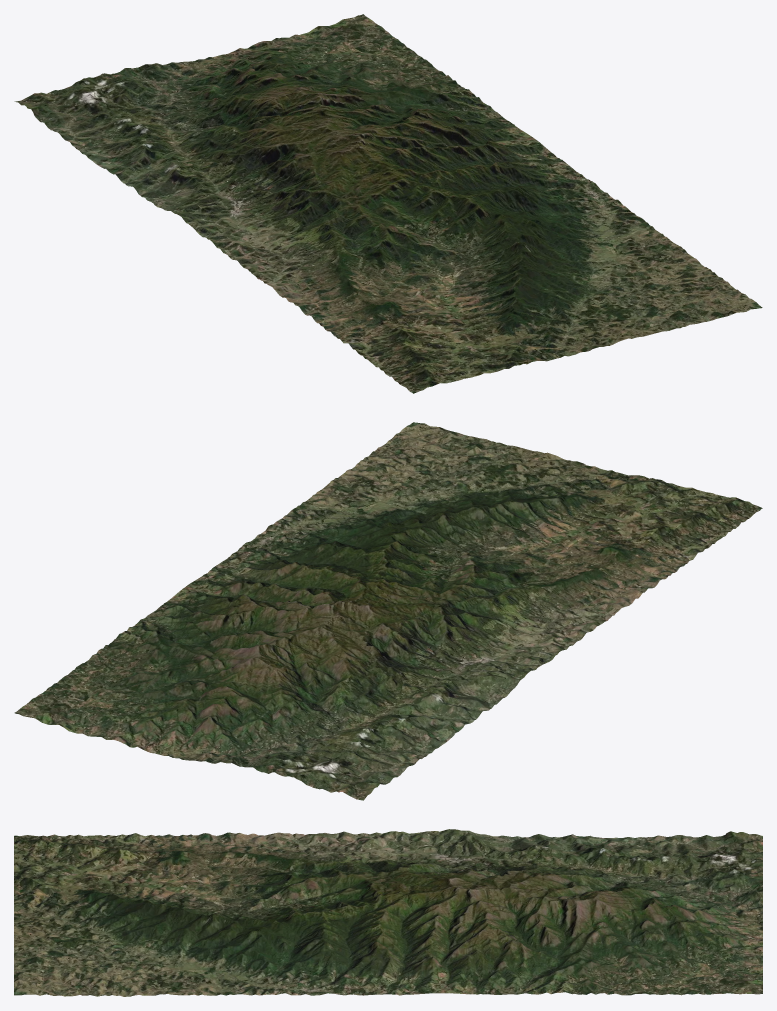
File: pico-da-bandeira-terreno.glb
3 renders of one model, top to bottom at view 1: azimuth 30°, elevation 25°; view 2: azimuth 150°, elevation 25°; view 3: azimuth 270°, elevation 25°, orthographic. The views are drawn at different scales.
Visible parts, largest first — view 1: TerrainNode; view 2: TerrainNode; view 3: TerrainNode.
Part boxes in pixels (box(x1,y1,x2,y2)): TerrainNode: box(14, 14, 762, 393); TerrainNode: box(14, 422, 762, 800); TerrainNode: box(14, 829, 762, 996).
Bounding box in the file's own units: 21274 × 2334 × 42084.
Materials: 1 (1 with a texture image).
